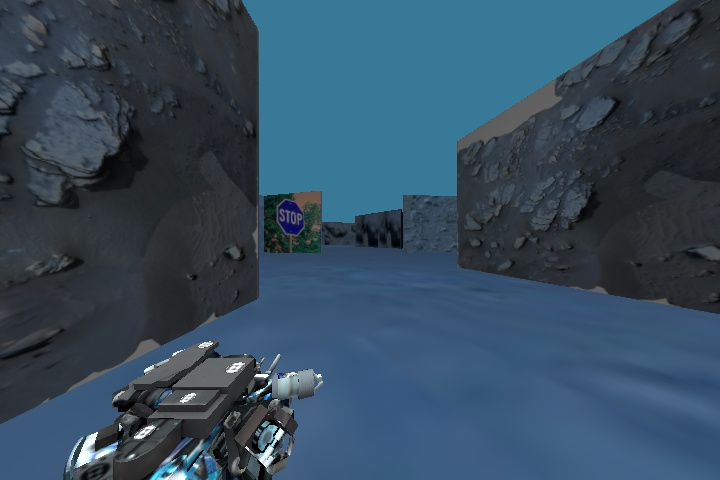stop_sign: (267, 192, 313, 246)
